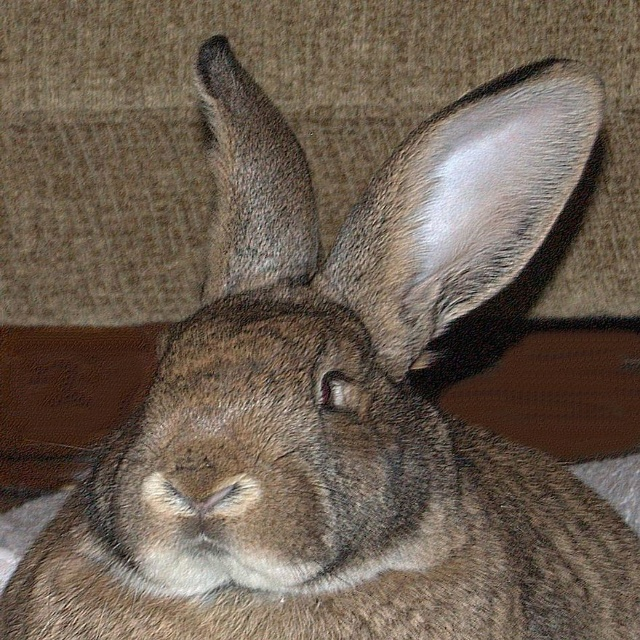Rabbit: (0, 32, 639, 639)
